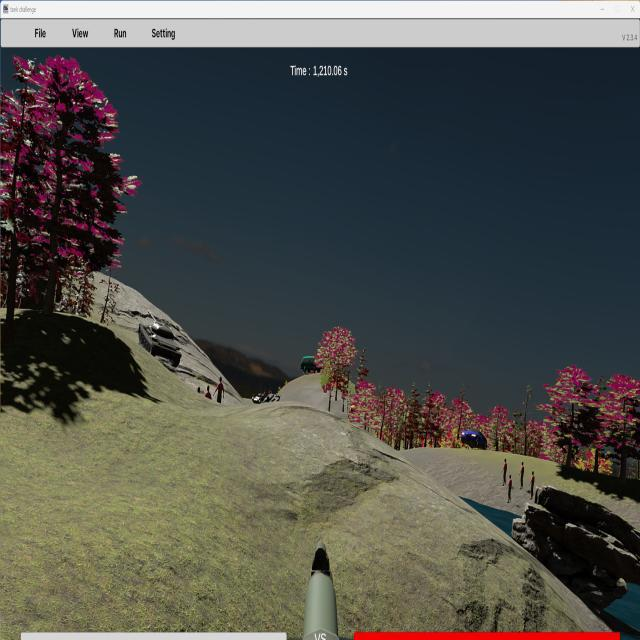Tank: (138, 309, 183, 368)
